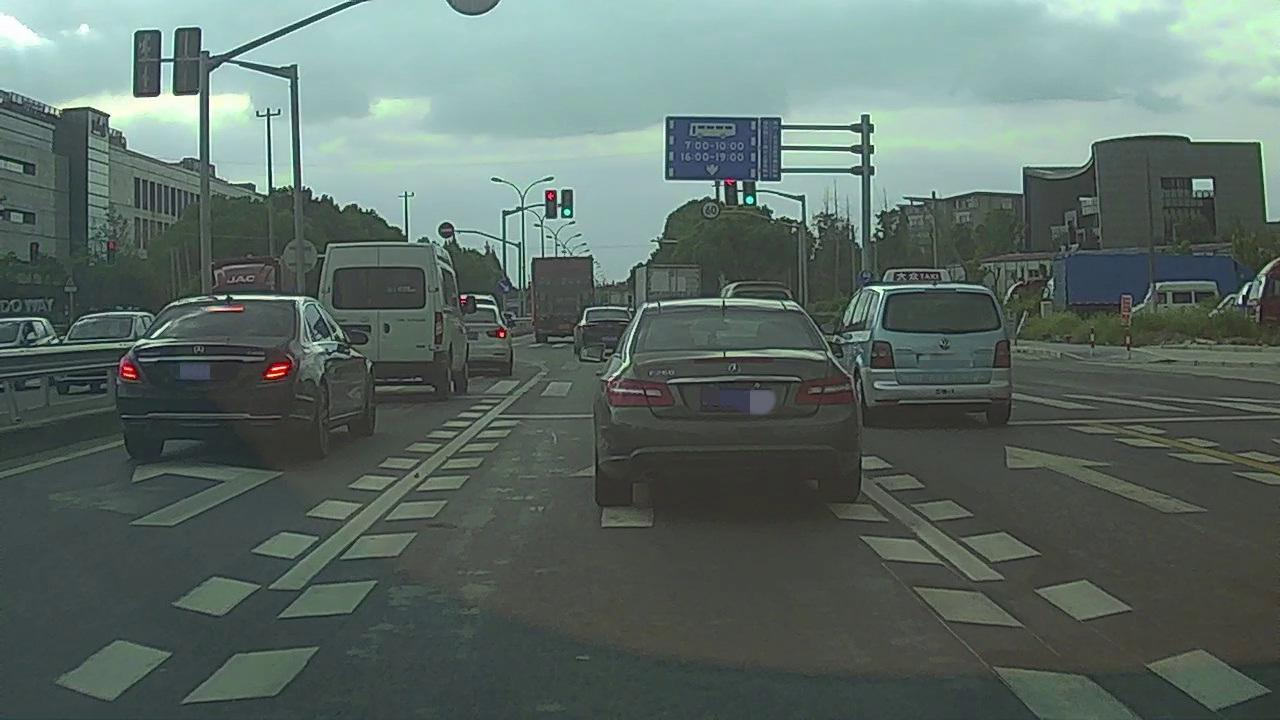traffic_light: (722, 180, 738, 208), (742, 179, 757, 208), (545, 191, 557, 221), (562, 190, 572, 218)
